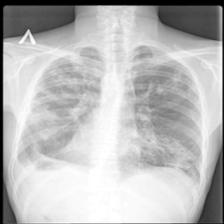tuberculosis: (10, 44, 208, 193)
